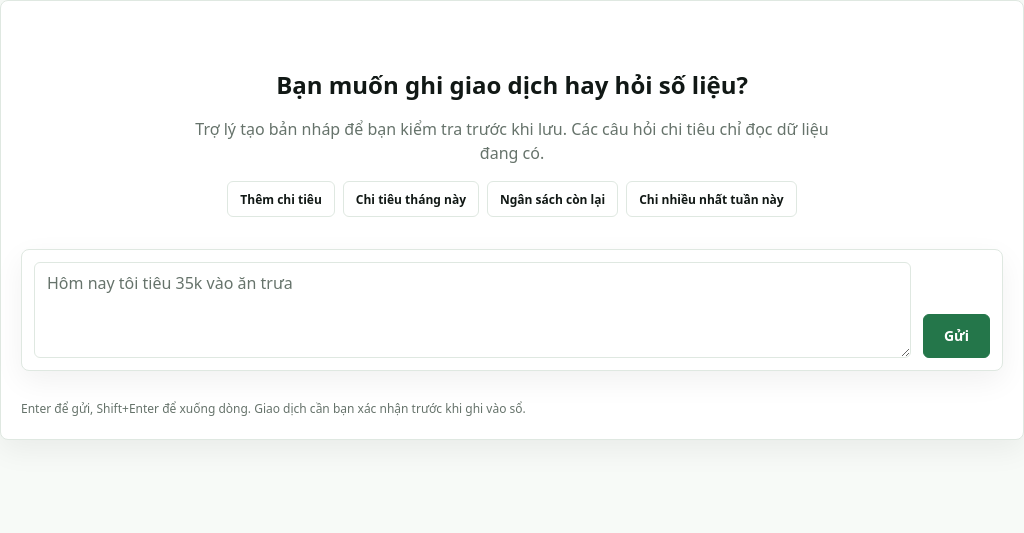
Test: insight chat UI › routes aggregate wallet-decrease wording as a total spending query
In the text box named "Chat to ledger message": (472, 310) top-left (34, 262), bottom-right (911, 358), type "Kể từ ngày đầu tiên của tháng này đến giờ, ví của tôi đã giảm bao nhiêu vì các khoản chi?"
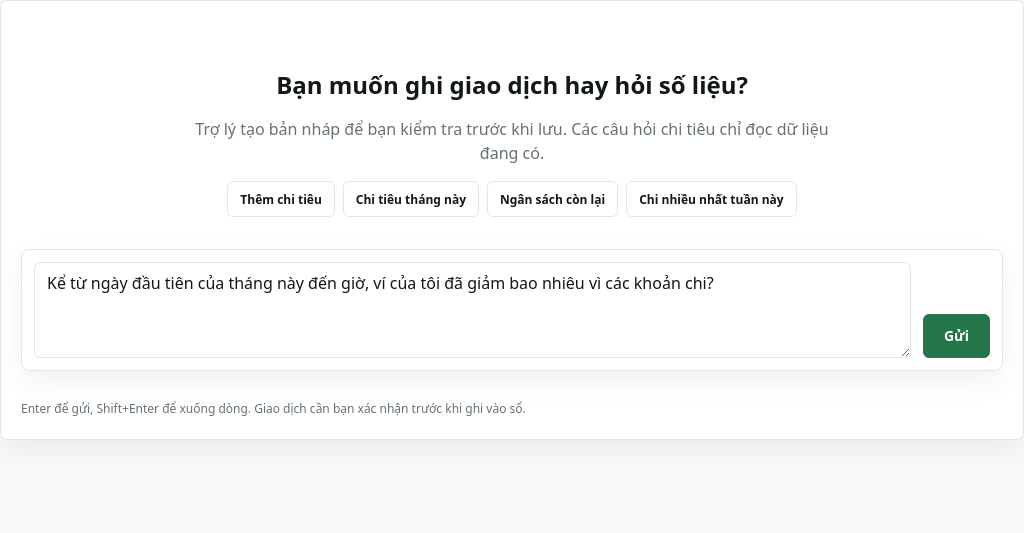
Click the button "Gửi": (956, 336) top-left (923, 314), bottom-right (990, 358)
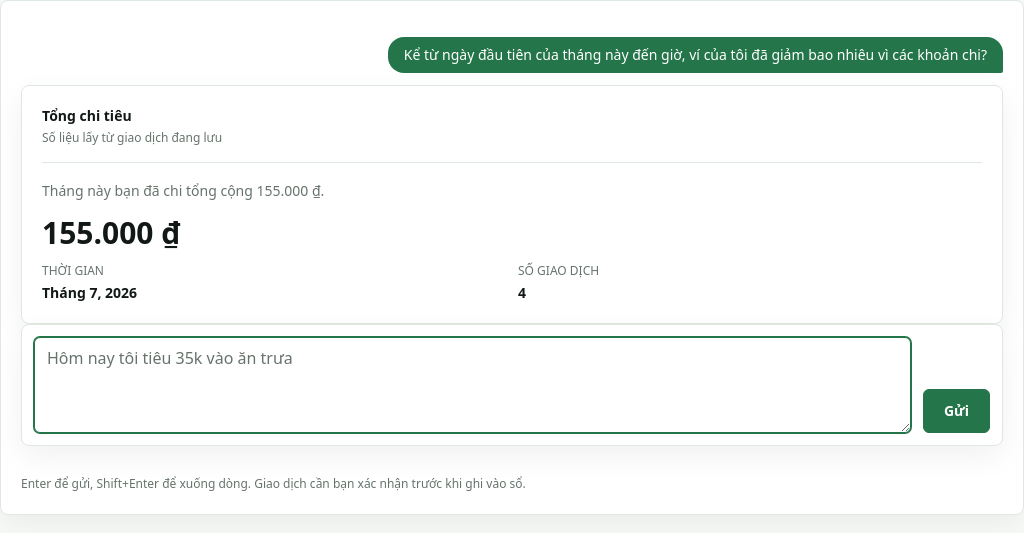
Expected: the heading "Tổng chi tiêu" is shown, top-left (42, 106), bottom-right (132, 125)
